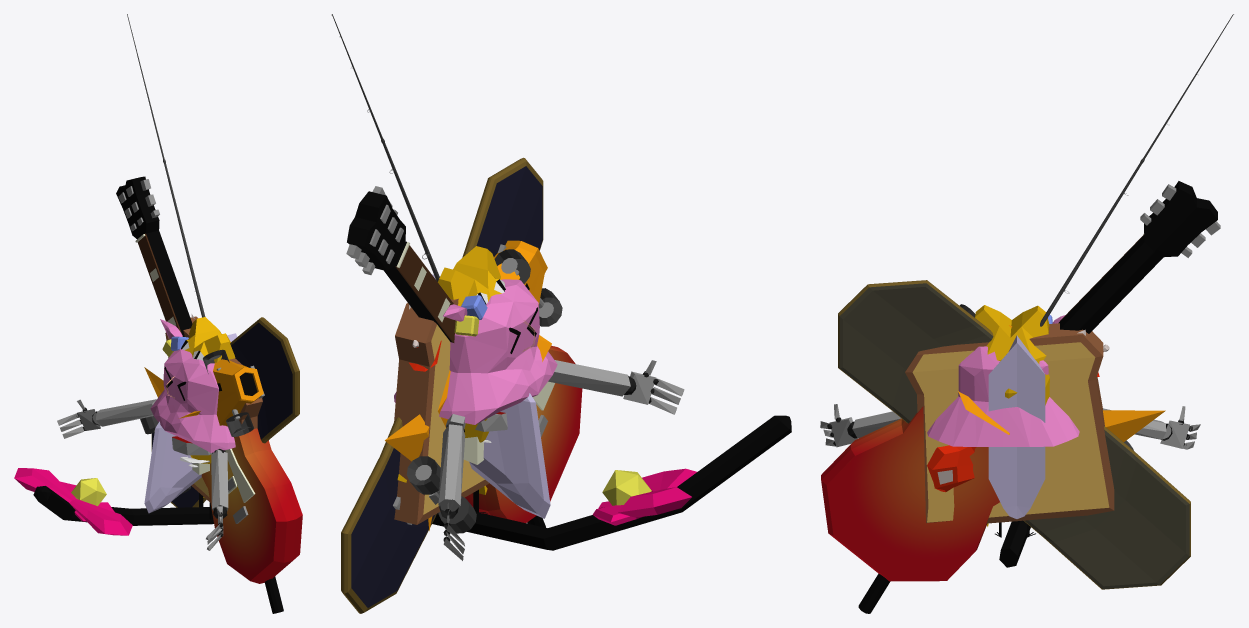
Rendered from BackBling.fbx.
3 views of the same model, side by side, from view 1: azimuth 30°, elevation 25°; view 2: azimuth 150°, elevation 25°; view 3: azimuth 270°, elevation 25° (orthographic). The views are drawn at different scales.
Parts seen in each view (by area): view 1: Pes Laul, GDS Skateboard, Bocchi Blob, Cat Tail, S.H.R.I.M.P, Fin, Fish, Chiyo dad, Fishing rod, toast; view 2: GDS Skateboard, Pes Laul, Bocchi Blob, Cat Tail, toast, S.H.R.I.M.P, Fin, Chiyo dad, Fish, Fishing rod, PunPun; view 3: Pes Laul, GDS Skateboard, toast, Bocchi Blob, Fin, S.H.R.I.M.P, Chiyo dad, RayGun, Fishing rod, Fish, Cat Tail.
Part boxes in pixels (x1,y1,x2,y2): Pes Laul: (116,176,302,583); GDS Skateboard: (140,317,299,507); Bocchi Blob: (150,319,235,452); Cat Tail: (14,468,213,535); S.H.R.I.M.P: (57,376,228,550); Fin: (144,333,237,513); Fish: (144,359,263,426); Chiyo dad: (181,317,238,497); Fishing rod: (127,14,283,613); toast: (165,316,262,502); GDS Skateboard: (341,157,562,613); Pes Laul: (346,186,582,523); Bocchi Blob: (394,279,557,424); Cat Tail: (432,415,791,550); toast: (394,298,489,524); S.H.R.I.M.P: (438,320,684,560); Fin: (432,274,550,518); Chiyo dad: (397,246,505,494); Fish: (385,240,551,530); Fishing rod: (331,14,545,527); PunPun: (463,436,487,527); Pes Laul: (821,181,1220,581); GDS Skateboard: (838,280,1190,589); toast: (905,323,1114,523); Bocchi Blob: (927,315,1079,446); Fin: (988,335,1045,518); S.H.R.I.M.P: (820,404,1200,449); Chiyo dad: (975,305,1049,526); RayGun: (927,344,1109,492); Fishing rod: (858,14,1233,613); Fish: (958,325,1165,441); Cat Tail: (999,520,1030,567).
Bounding box in the file's own units: 220 × 419 × 262.
38 materials, 2 textured.
